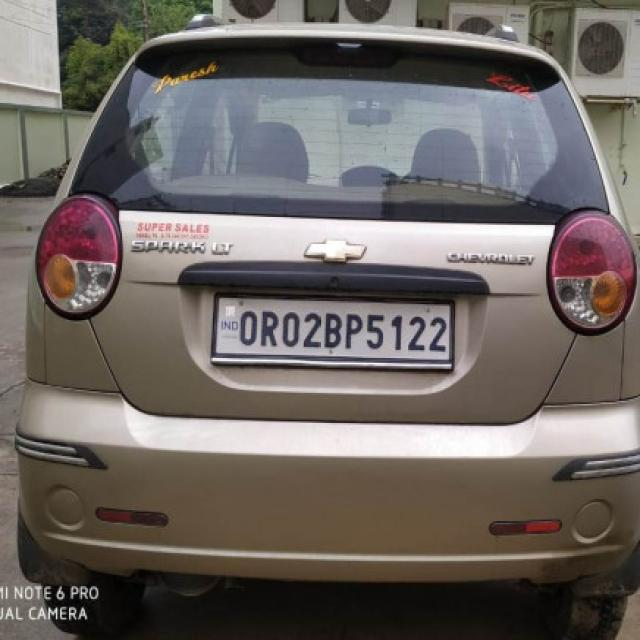number_plate: (206, 274, 473, 397)
